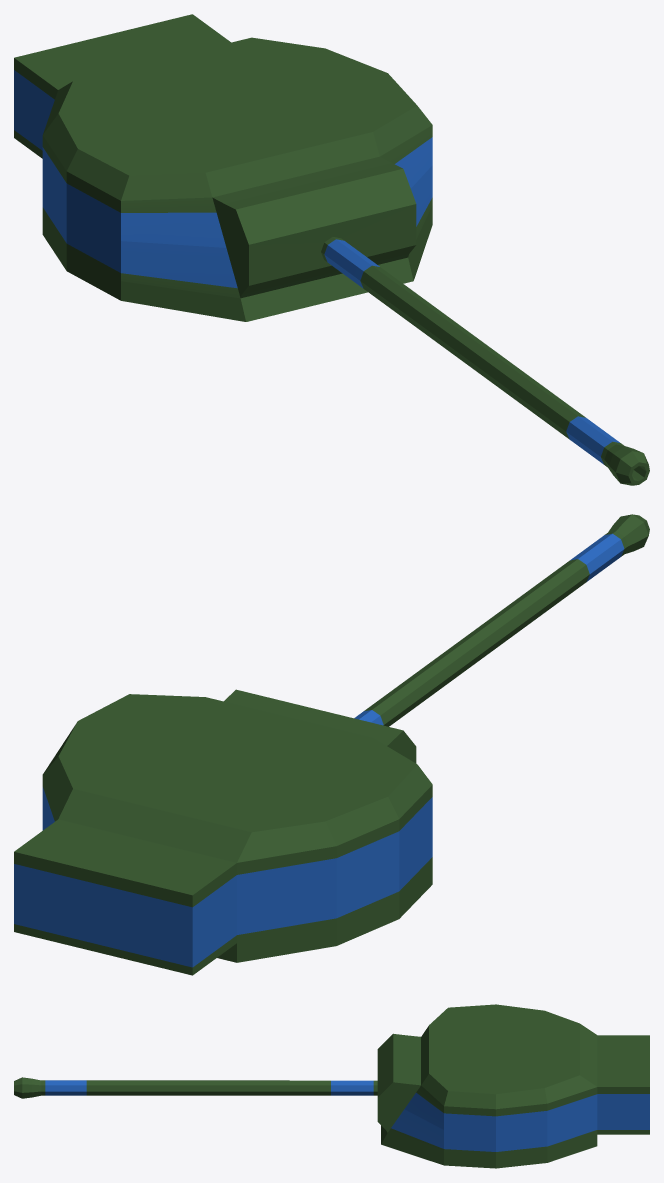
File: Sherman Head.fbx
3 renders of one model, top to bottom at view 1: azimuth 30°, elevation 25°; view 2: azimuth 150°, elevation 25°; view 3: azimuth 270°, elevation 25°, orthographic. The views are drawn at different scales.
Parts seen in each view (by area): view 1: Head; view 2: Head; view 3: Head.
Part boxes in pixels (box(x1,y1,x2,y2)): Head: box(14, 14, 649, 485); Head: box(14, 514, 649, 975); Head: box(14, 1004, 649, 1168).
Bounding box in the file's own units: 2.59 × 0.8924 × 7.24.
